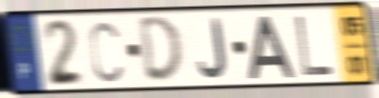2: (40, 17, 86, 89)
A: (247, 13, 298, 81)
C: (87, 19, 124, 85)
D: (136, 14, 186, 86)
J: (196, 16, 229, 81)
L: (293, 14, 337, 79)
